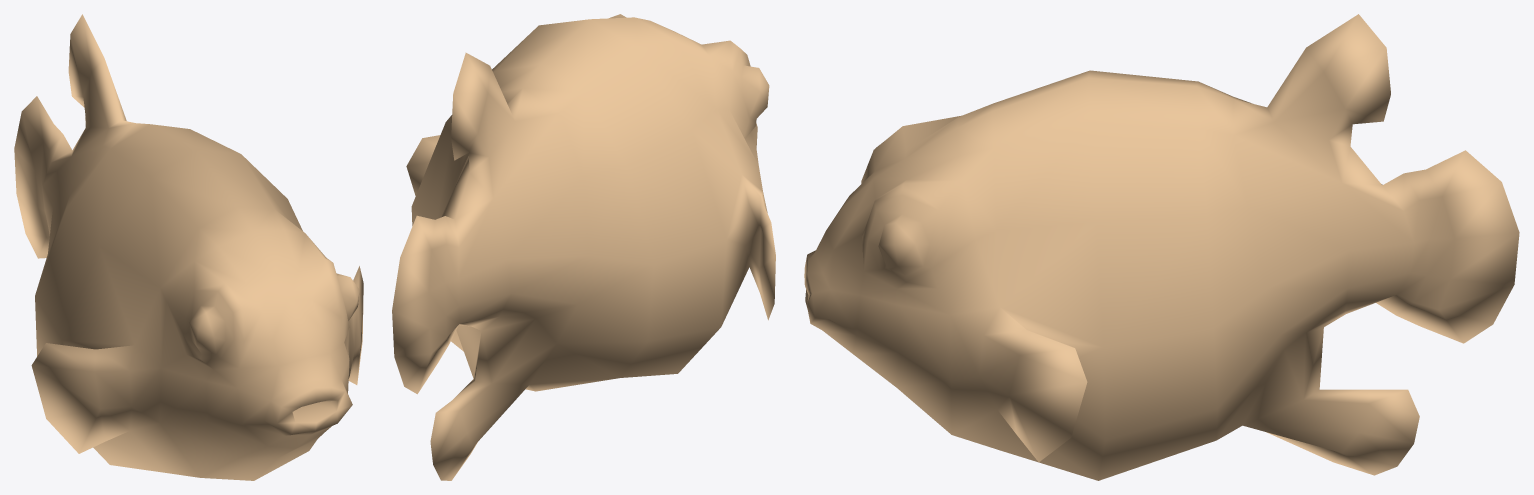
File: PusfferFish 1.fbx
3 renders of one model, left to right at view 1: azimuth 30°, elevation 25°; view 2: azimuth 150°, elevation 25°; view 3: azimuth 270°, elevation 25°, orthographic. The views are drawn at different scales.
Visible parts, largest first — view 1: mesh_3_4.nr; view 2: mesh_3_4.nr; view 3: mesh_3_4.nr.
Boxes of the visible parts, <box> form: mesh_3_4.nr: <box>14,14,363,480</box>; mesh_3_4.nr: <box>392,14,775,480</box>; mesh_3_4.nr: <box>804,14,1519,480</box>.
Size of the model in its own units: 0.7424 by 0.818 by 1.16.
